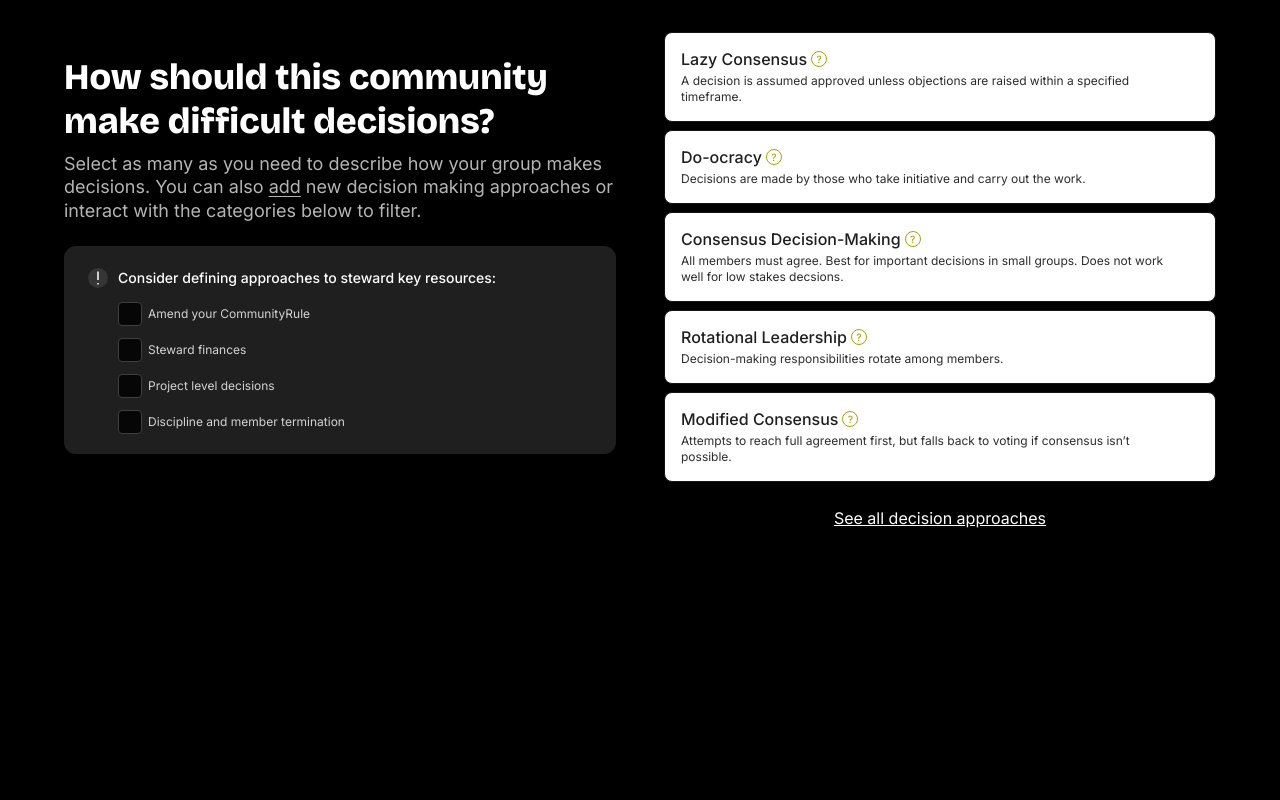
Test: Create flow decision-approaches page › re-opening a selected approach shows no modal primary; Remove is in the kebab
The width and height of the screenshot is (1280, 800).
Click the button with aria-label "Lazy Consensus: A decision is assumed approved" at x=940, y=77, box x1=664 y1=32 x2=1216 y2=122
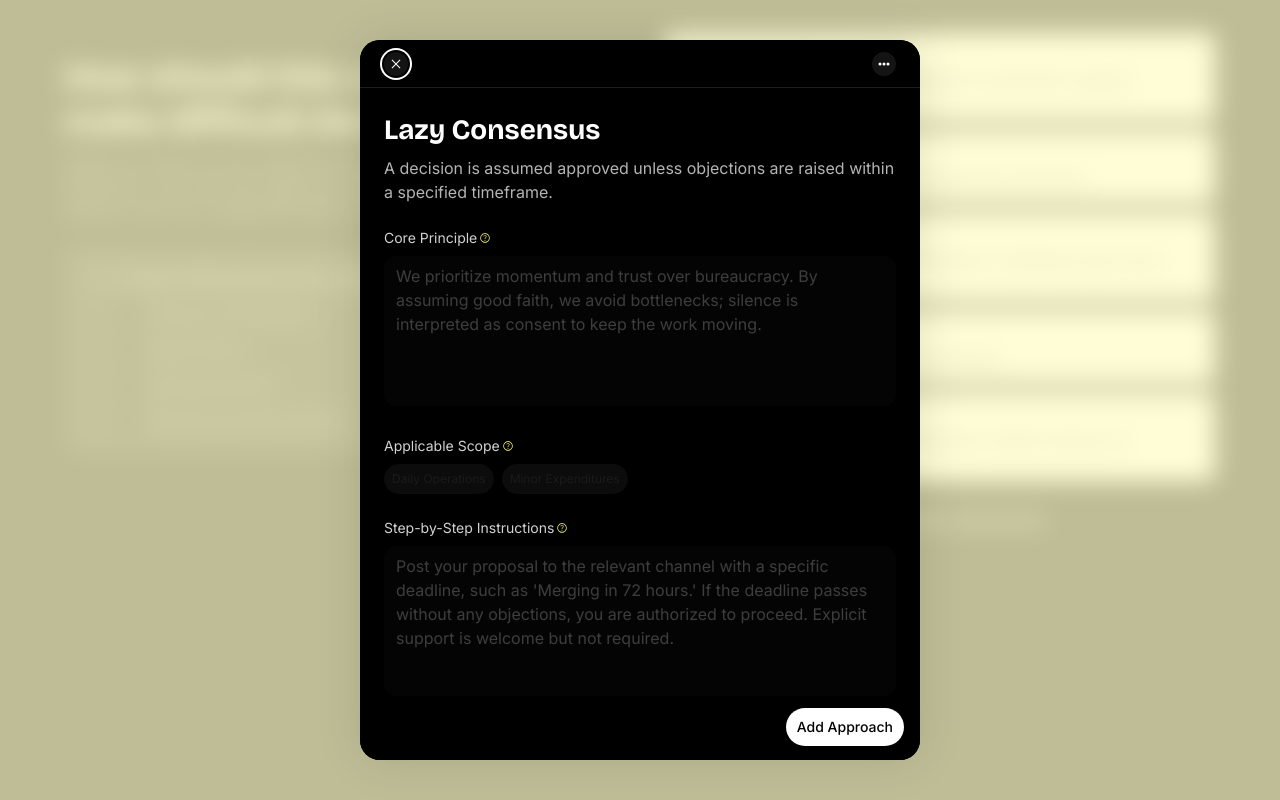
Click the button "Add Approach" at x=845, y=727, box x1=786 y1=708 x2=904 y2=746
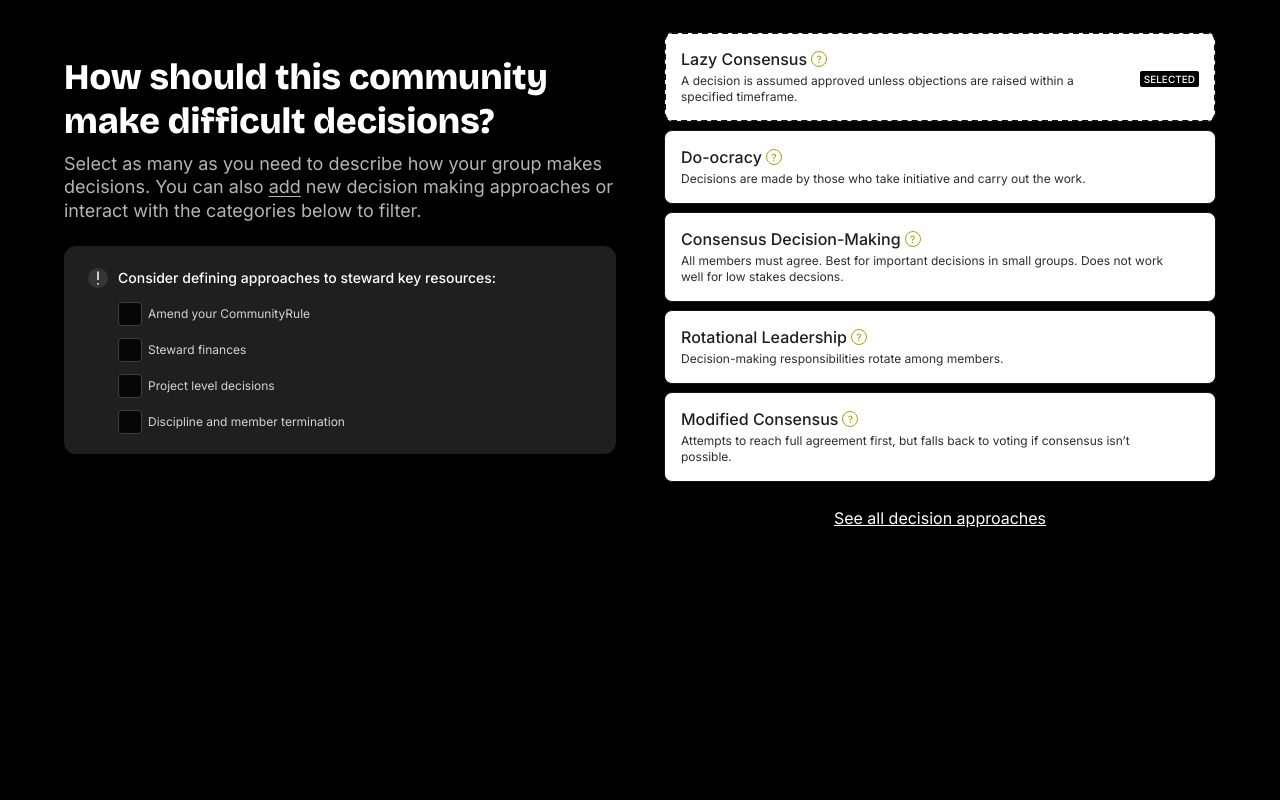
Click the button with aria-label "Lazy Consensus: A decision is assumed approved" at x=940, y=77, box x1=664 y1=32 x2=1216 y2=122
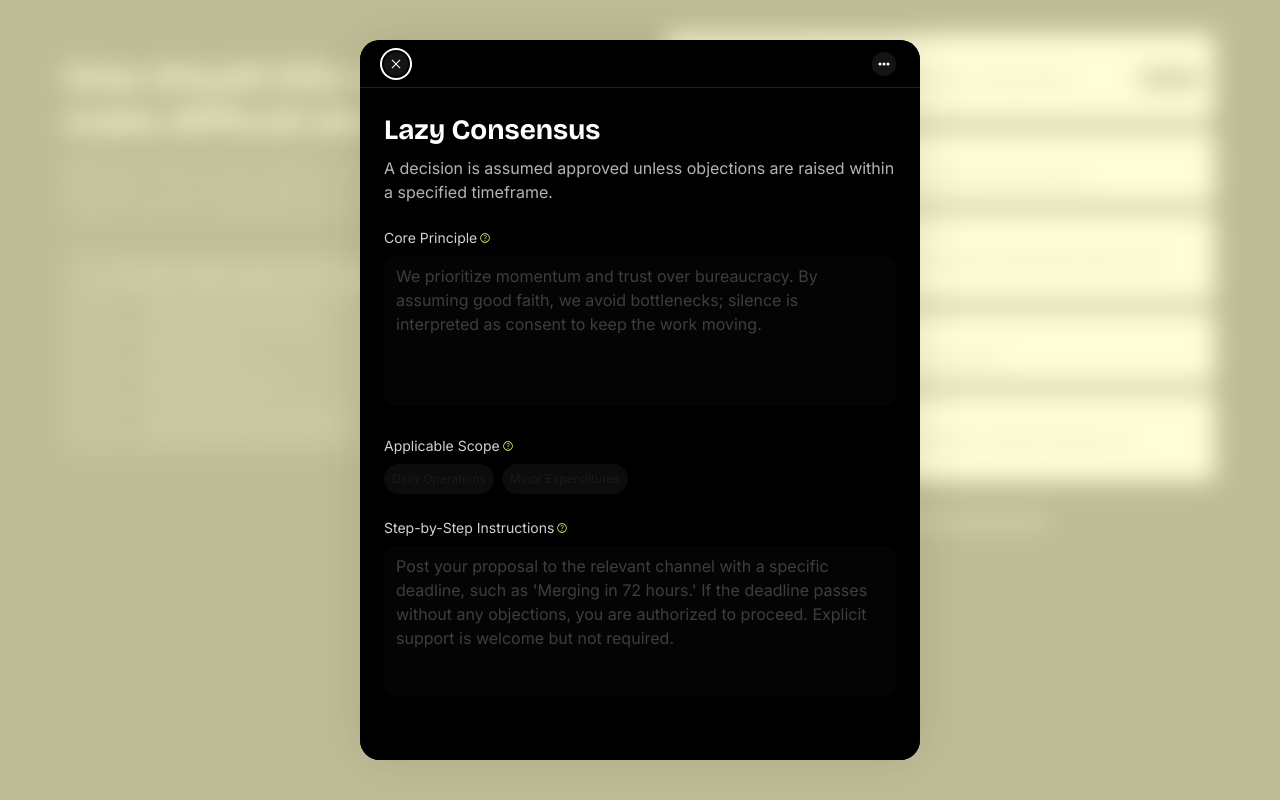
Check: the button "Remove" is not shown
Check: the button "Add Approach" is not shown
Click the button named "More options" at x=884, y=64, box x1=872 y1=52 x2=896 y2=76
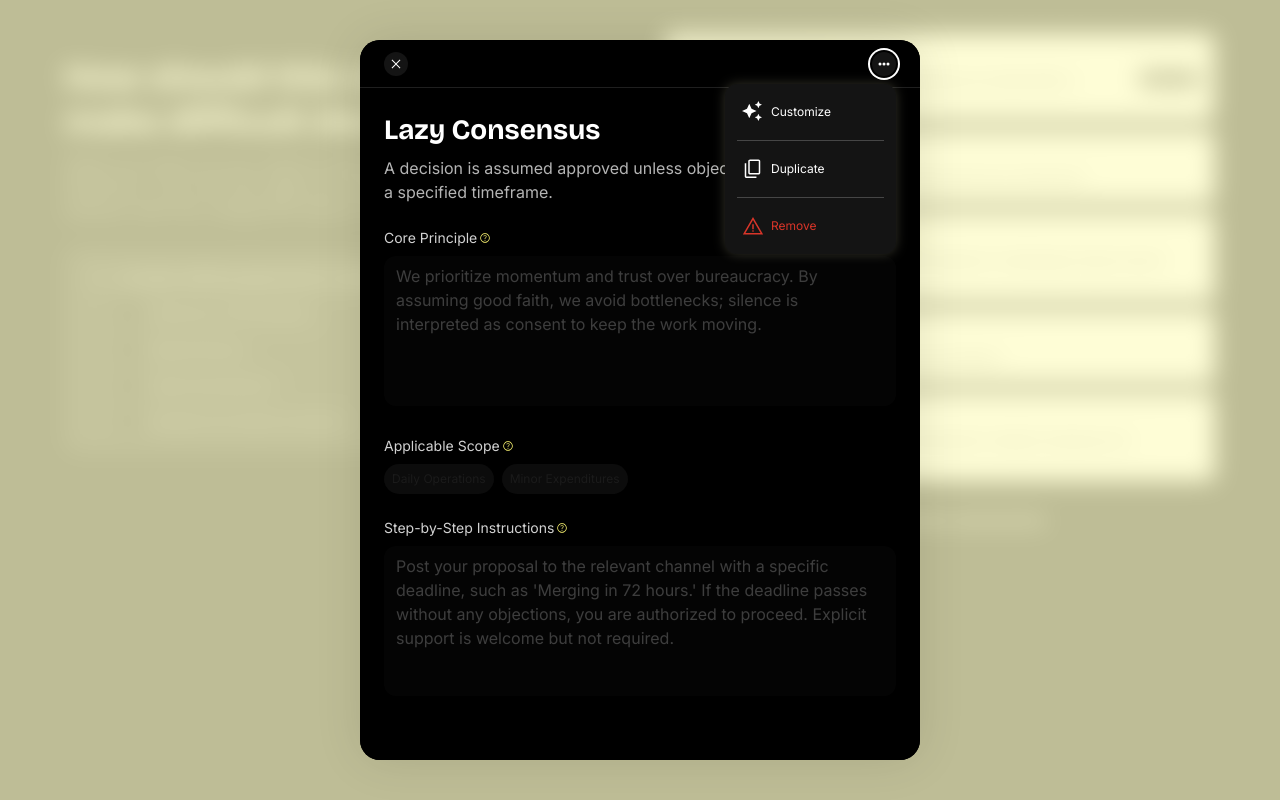
Check: the menu item "Remove" is shown, box x1=737 y1=198 x2=884 y2=254
